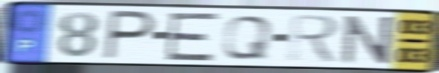8: (55, 8, 102, 60)
E: (163, 11, 222, 62)
N: (340, 14, 397, 65)
P: (102, 8, 159, 62)
Q: (220, 14, 275, 62)
R: (286, 12, 342, 65)
